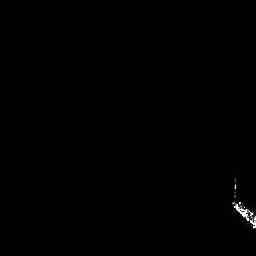ship: (231, 200, 256, 228)
